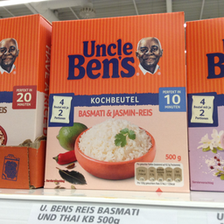rice: (41, 11, 191, 192), (1, 14, 51, 146), (187, 16, 224, 191)
